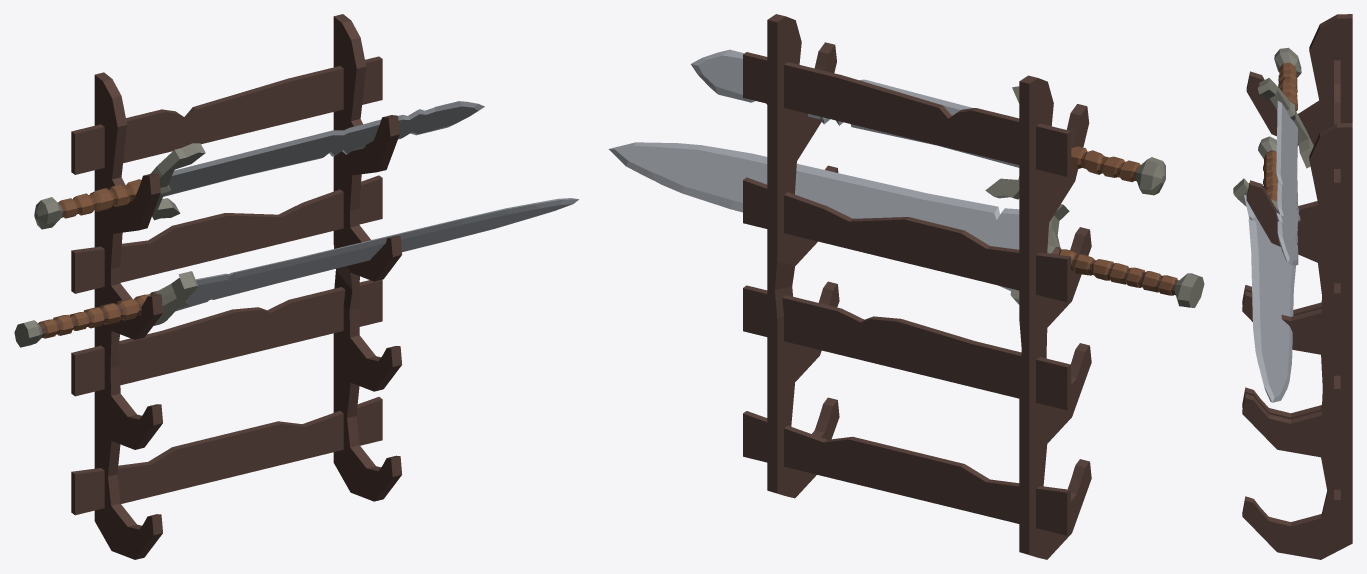
The model's file is D_Sword_WallMount.glb.
3 renders of one model, left to right at view 1: azimuth 30°, elevation 25°; view 2: azimuth 150°, elevation 25°; view 3: azimuth 270°, elevation 25°, orthographic. The views are drawn at different scales.
Visible parts, largest first — view 1: Sword_WallMount, Sword_big, Sword; view 2: Sword_WallMount, Sword_big, Sword; view 3: Sword_WallMount, Sword_big, Sword.
Boxes of the visible parts, x1=… form: Sword_WallMount: x1=71, y1=14, x2=402, y2=559; Sword_big: x1=14, y1=198, x2=578, y2=347; Sword: x1=34, y1=101, x2=484, y2=229; Sword_WallMount: x1=743, y1=14, x2=1091, y2=559; Sword_big: x1=609, y1=142, x2=1204, y2=307; Sword: x1=691, y1=49, x2=1165, y2=199; Sword_WallMount: x1=1242, y1=14, x2=1352, y2=559; Sword_big: x1=1233, y1=136, x2=1295, y2=402; Sword: x1=1257, y1=47, x2=1313, y2=265.
Size of the model in its own units: 1.07 by 0.8471 by 0.2117.
